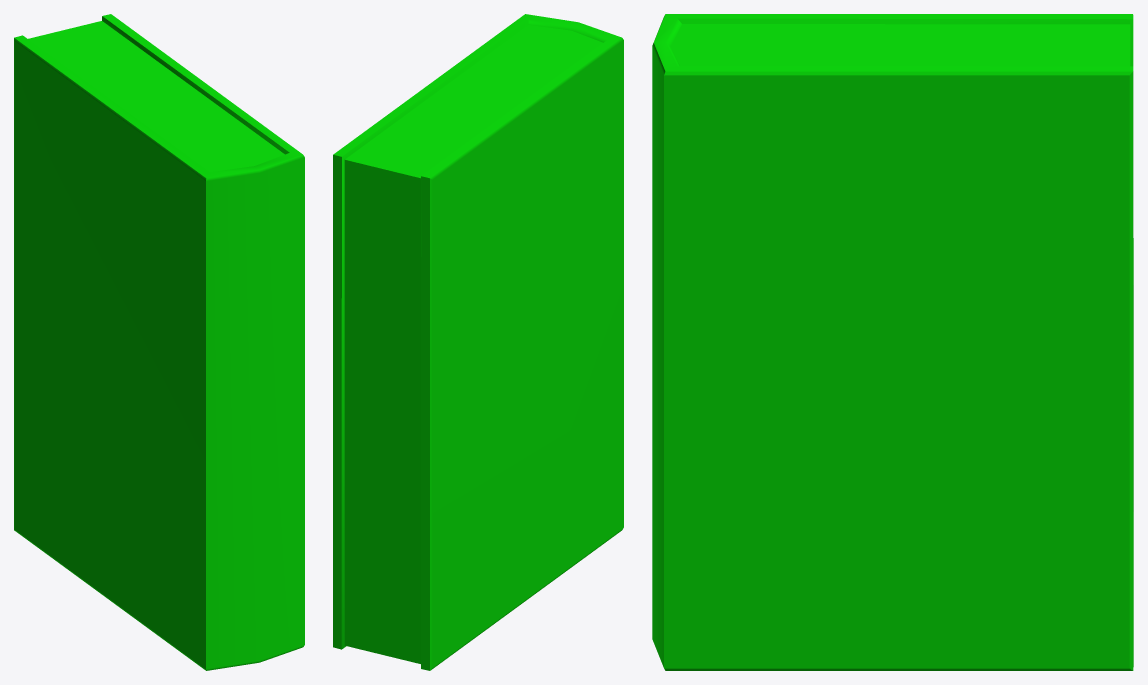
File: LibroMedium02.fbx
The picture shows the model from 3 angles, left to right: view 1: azimuth 30°, elevation 25°; view 2: azimuth 150°, elevation 25°; view 3: azimuth 270°, elevation 25°; orthographic projection. The views are drawn at different scales.
Visible parts, largest first — view 1: pCube271; view 2: pCube271; view 3: pCube271.
Part boxes in pixels (x1,y1,x2,y2): pCube271: [14, 14, 304, 670]; pCube271: [333, 14, 623, 670]; pCube271: [652, 14, 1133, 670].
Bounding box in the file's own units: 0.0507 × 0.2412 × 0.1753.
